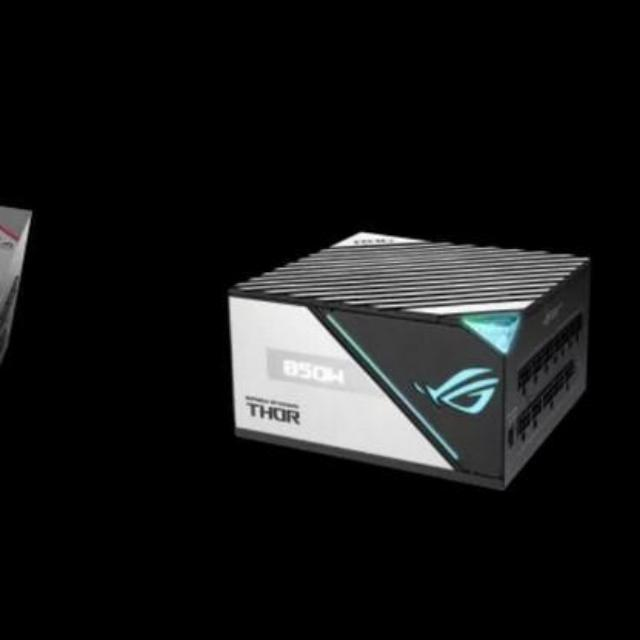PSU: (220, 221, 611, 504)
